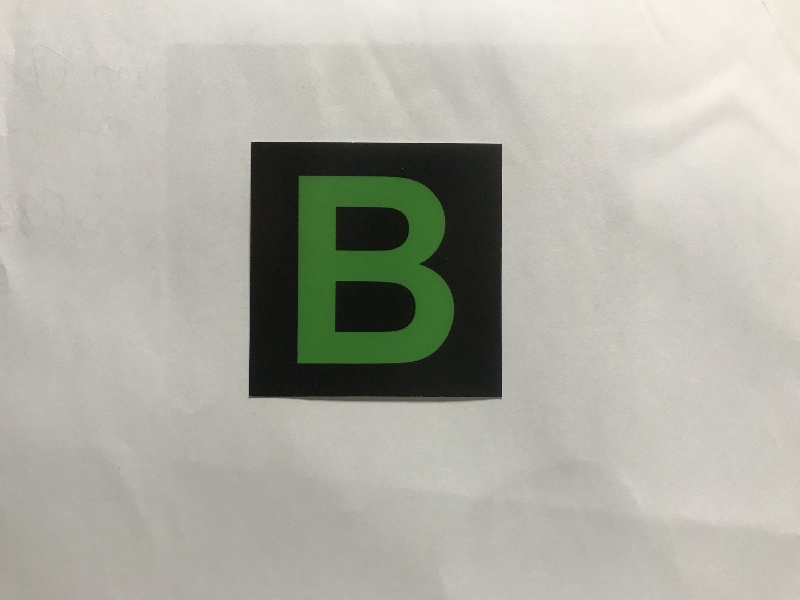B-12: (252, 145, 500, 397)
